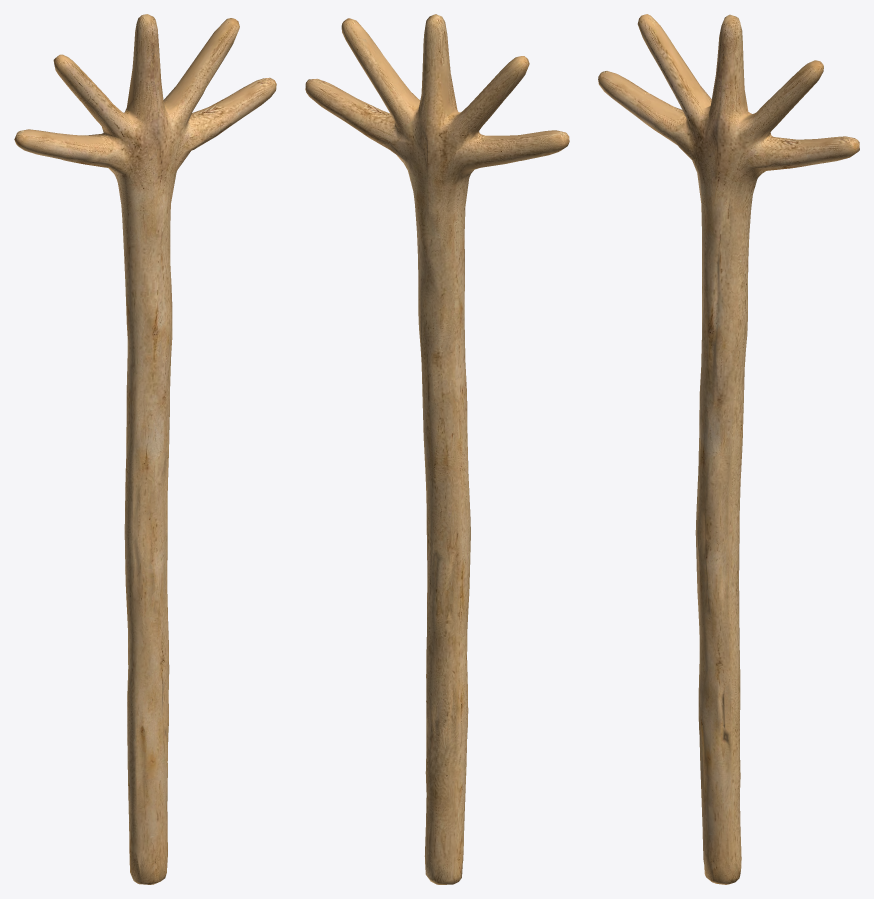
Rendered from wooden-back-scratcher.glb.
3 views of the same model, side by side, from view 1: azimuth 30°, elevation 25°; view 2: azimuth 150°, elevation 25°; view 3: azimuth 330°, elevation 25° (orthographic).
Size of the model in its own units: 0.5992 by 1.9 by 0.1103.
Materials: 1 (1 with a texture image).
